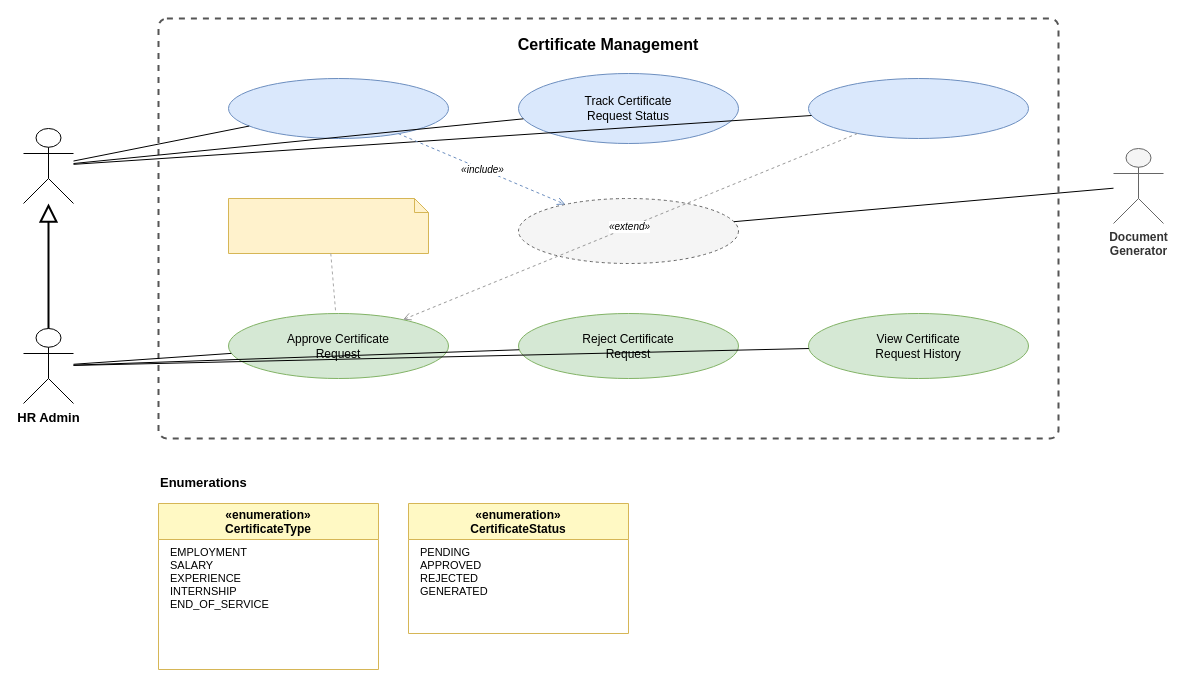
The diagram is 1185 pixels wide and 687 high, and some of its shapes have lost their labels. The centre of each missing label's shape, as x and y in pixels:
"Auto-Generate Certificate" belongs at point (628, 231).
"Download Certificate" belongs at point (918, 108).
"Employee" belongs at point (48, 166).
"HR-Only: salary data + official stamp required" belongs at point (328, 226).
"Request Certificate" belongs at point (338, 108).
